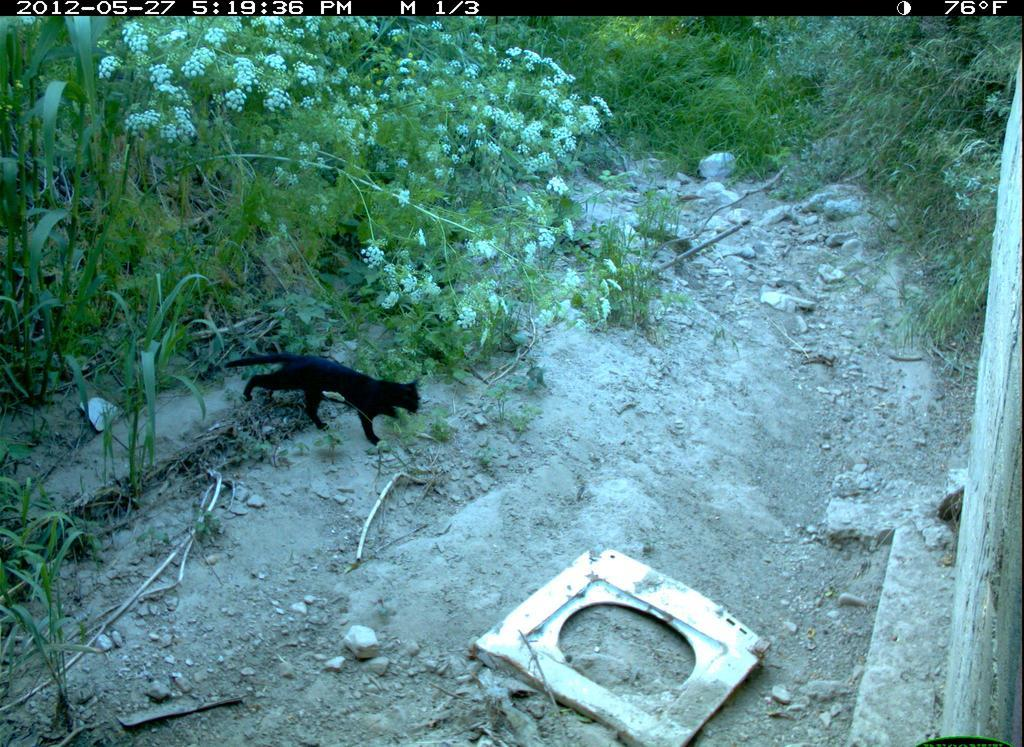cat: (214, 332, 428, 446)
